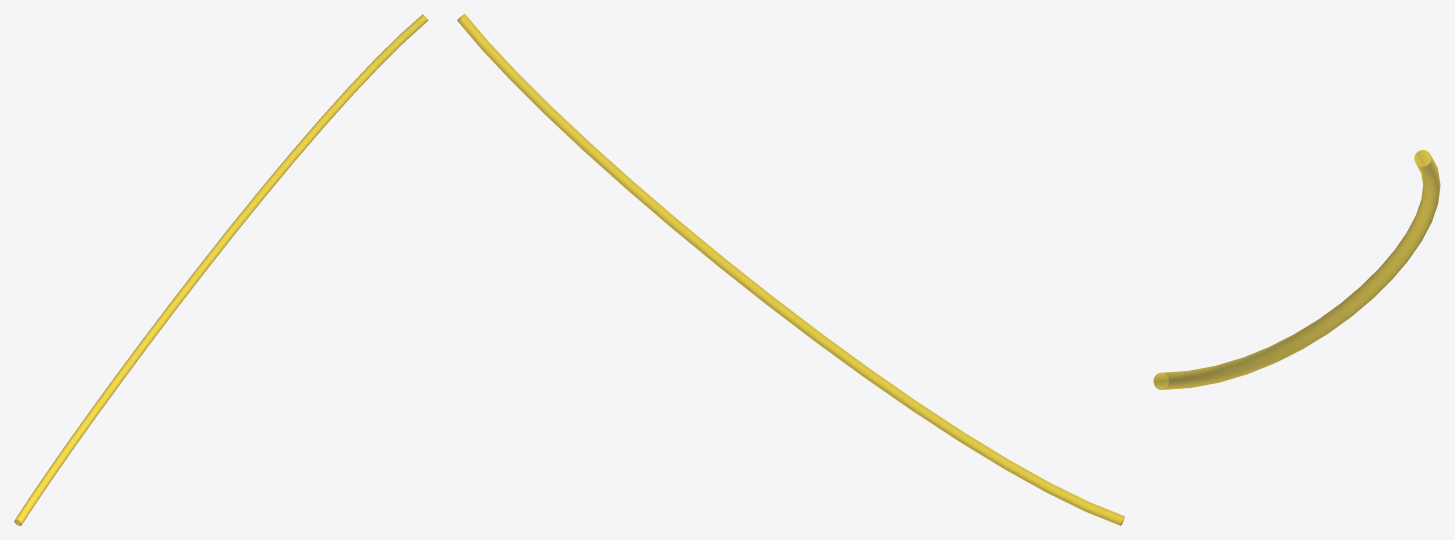
File: Event_84804159_track_50.fbx
The picture shows the model from 3 angles, left to right: view 1: azimuth 30°, elevation 25°; view 2: azimuth 150°, elevation 25°; view 3: azimuth 270°, elevation 25°; orthographic projection. The views are drawn at different scales.
Parts seen in each view (by area): view 1: Model; view 2: Model; view 3: Model.
Part boxes in pixels (x1,y1,x2,y2): Model: (14,14,428,525); Model: (457,14,1124,525); Model: (1153,150,1440,389).
Bounding box in the file's own units: 2.54 × 1.78 × 0.6614.
